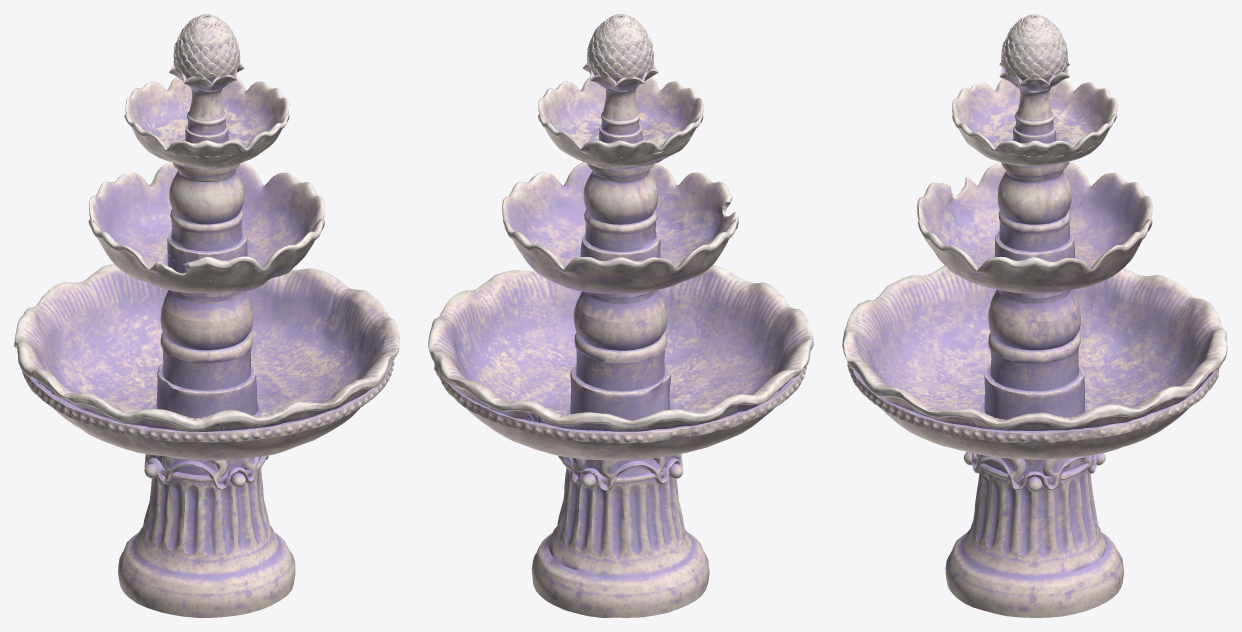
File: k2-brunnen3d.glb
3 renders of one model, left to right at view 1: azimuth 30°, elevation 25°; view 2: azimuth 150°, elevation 25°; view 3: azimuth 270°, elevation 25°, orthographic.
Parts seen in each view (by area): view 1: schale3, schale2, sockel, schale1; view 2: schale3, schale2, sockel, schale1; view 3: schale3, schale2, sockel, schale1.
Boxes of the visible parts, left/top/right/bottom form: schale3: left=14, top=264, right=399, bottom=460; schale2: left=88, top=162, right=324, bottom=321; sockel: left=118, top=454, right=295, bottom=617; schale1: left=124, top=14, right=289, bottom=203; schale3: left=428, top=265, right=813, bottom=460; schale2: left=502, top=162, right=738, bottom=322; sockel: left=531, top=454, right=709, bottom=617; schale1: left=538, top=14, right=703, bottom=204; schale3: left=842, top=265, right=1227, bottom=459; schale2: left=917, top=162, right=1152, bottom=321; sockel: left=945, top=452, right=1123, bottom=617; schale1: left=952, top=14, right=1117, bottom=203.
Bounding box in the file's own units: 1.23 × 2 × 1.23.
Materials: 1 (1 with a texture image).
